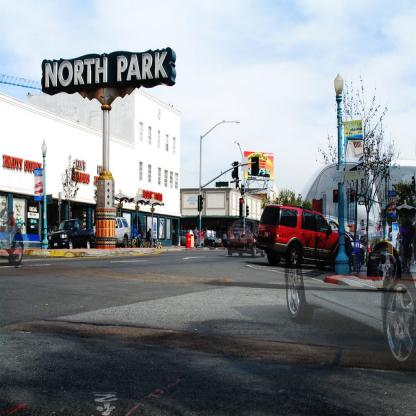Car: (285, 163, 416, 374), (261, 208, 343, 264), (51, 219, 96, 250), (226, 224, 267, 258), (115, 218, 132, 248)
